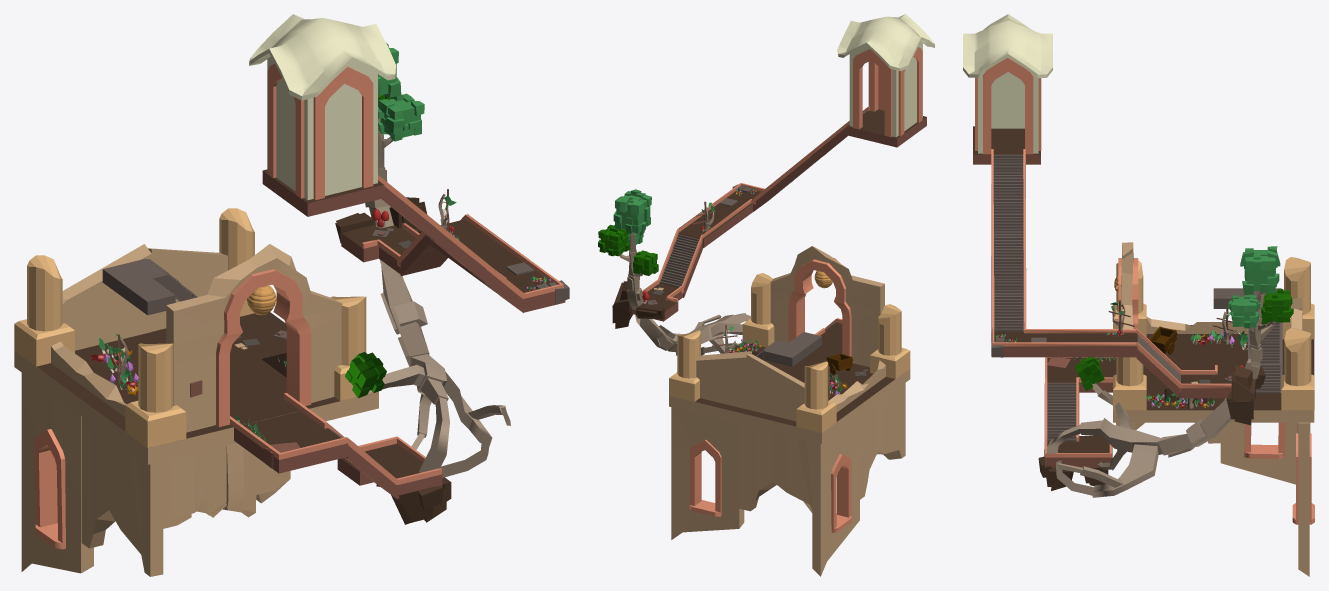
3 renders of one model, left to right at view 1: azimuth 30°, elevation 25°; view 2: azimuth 150°, elevation 25°; view 3: azimuth 270°, elevation 25°, orthographic. The views are drawn at different scales.
Visible parts, largest first — view 1: Segment2; view 2: Segment2; view 3: Segment2.
Part boxes in pixels (x1,y1,x2,y2): Segment2: (14, 14, 569, 576); Segment2: (598, 14, 934, 576); Segment2: (963, 14, 1314, 576).
Size of the model in its own units: 14.17 by 25.16 by 15.71.
